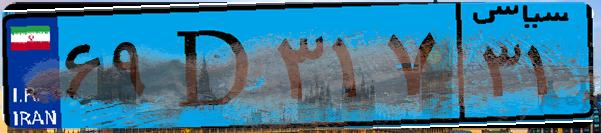1: (330, 28, 385, 110), (525, 38, 570, 115)
3: (270, 28, 330, 110), (475, 38, 525, 113)
6: (57, 26, 110, 100)
7: (385, 28, 445, 110)
9: (110, 28, 158, 98)
D: (158, 12, 270, 120)
